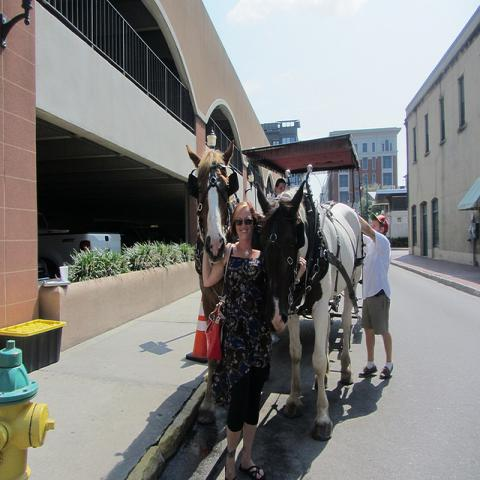car: (41, 236, 122, 268), (36, 251, 61, 282)
